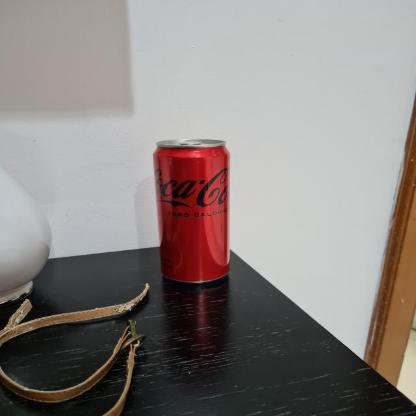Can: (154, 138, 235, 288)
